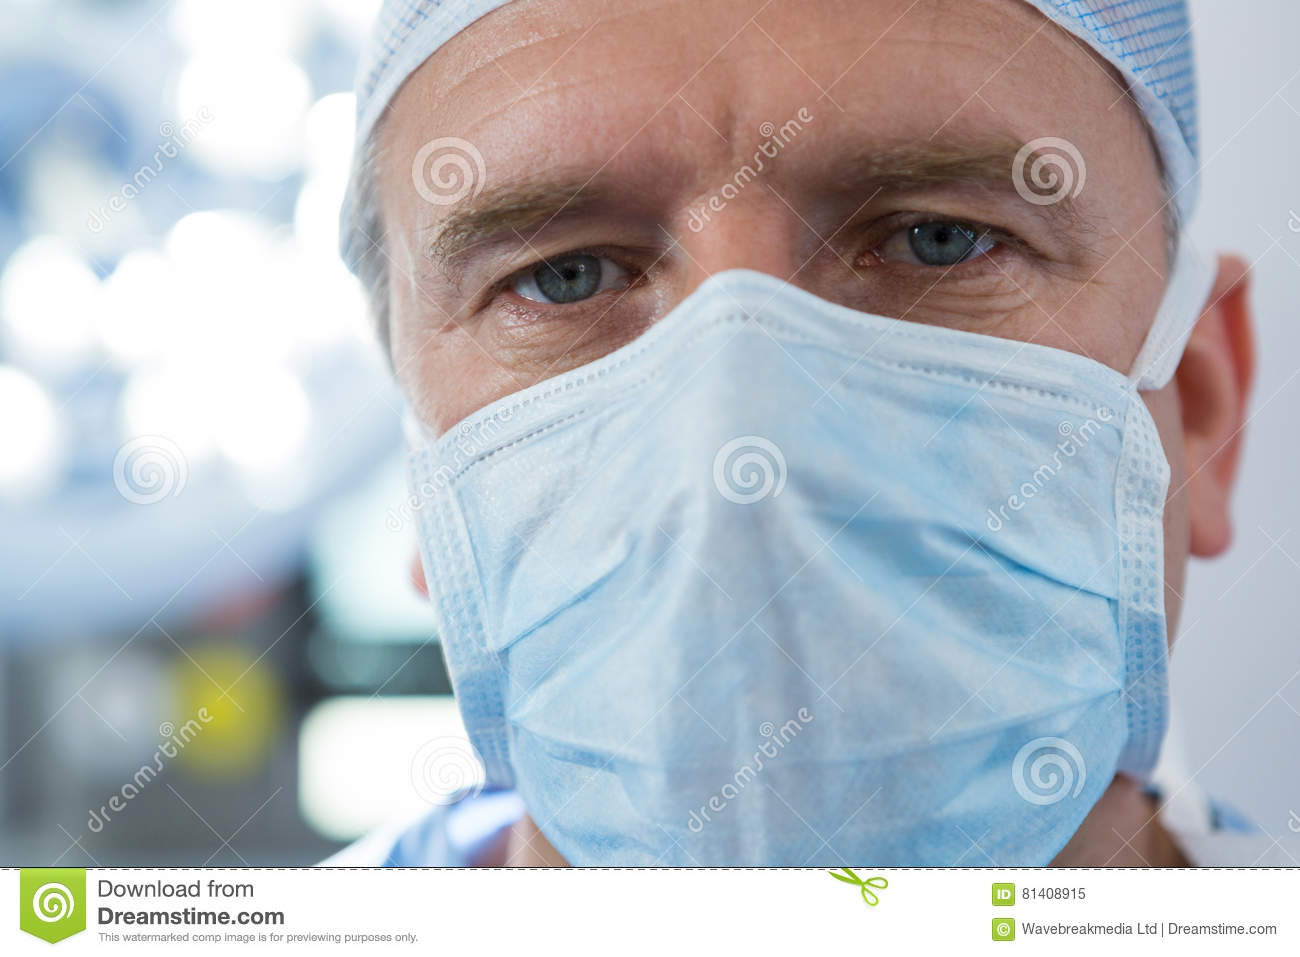mask: (417, 330, 1185, 870)
